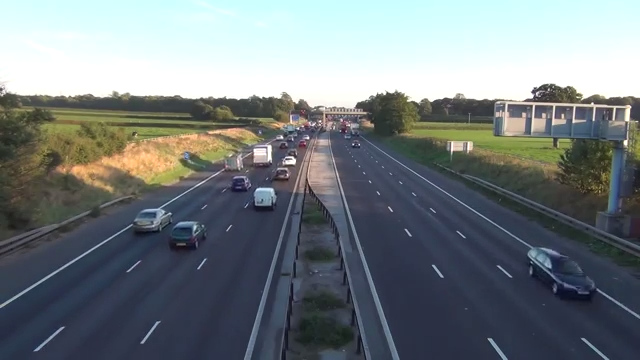car: (519, 241, 606, 303), (126, 200, 174, 235), (166, 217, 208, 251), (229, 172, 252, 194), (278, 154, 301, 166), (347, 137, 364, 151)
truck: (246, 139, 275, 169), (345, 119, 362, 137)
van: (251, 185, 279, 211), (220, 149, 247, 174)
